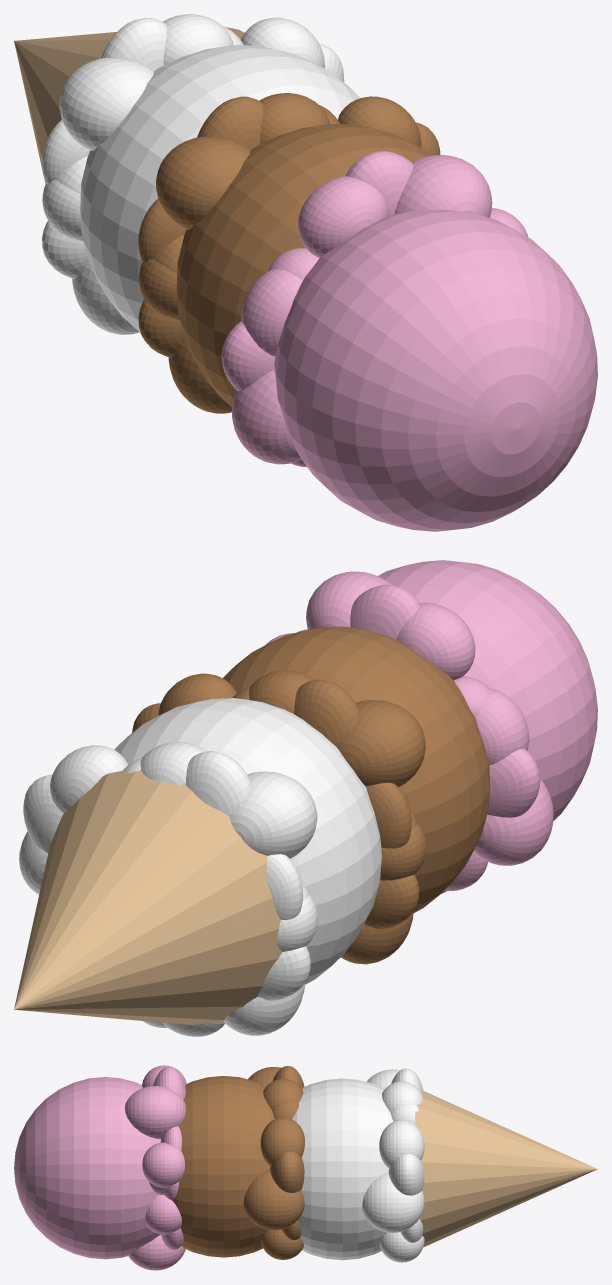
Rendered from tinker.obj.
3 renders of one model, top to bottom at view 1: azimuth 30°, elevation 25°; view 2: azimuth 150°, elevation 25°; view 3: azimuth 270°, elevation 25°, orthographic. The views are drawn at different scales.
Parts seen in each view (by area): view 1: group_0_15708628, group_0_16448250, group_0_11107152, group_0_14860437; view 2: group_0_14860437, group_0_16448250, group_0_11107152, group_0_15708628; view 3: group_0_15708628, group_0_16448250, group_0_11107152, group_0_14860437.
Part boxes in pixels (<box>): group_0_15708628: <box>221,151,597,531</box>; group_0_16448250: <box>42,14,360,334</box>; group_0_11107152: <box>138,93,440,413</box>; group_0_14860437: <box>14,27,244,183</box>; group_0_14860437: <box>14,770,282,1025</box>; group_0_16448250: <box>19,698,381,1036</box>; group_0_11107152: <box>132,626,490,964</box>; group_0_15708628: <box>266,560,597,893</box>; group_0_15708628: <box>14,1065,186,1270</box>; group_0_16448250: <box>292,1068,424,1262</box>; group_0_11107152: <box>172,1066,304,1259</box>; group_0_14860437: <box>415,1091,597,1247</box>.
Bounding box in the file's own units: 24.19 × 22.6 × 64.
